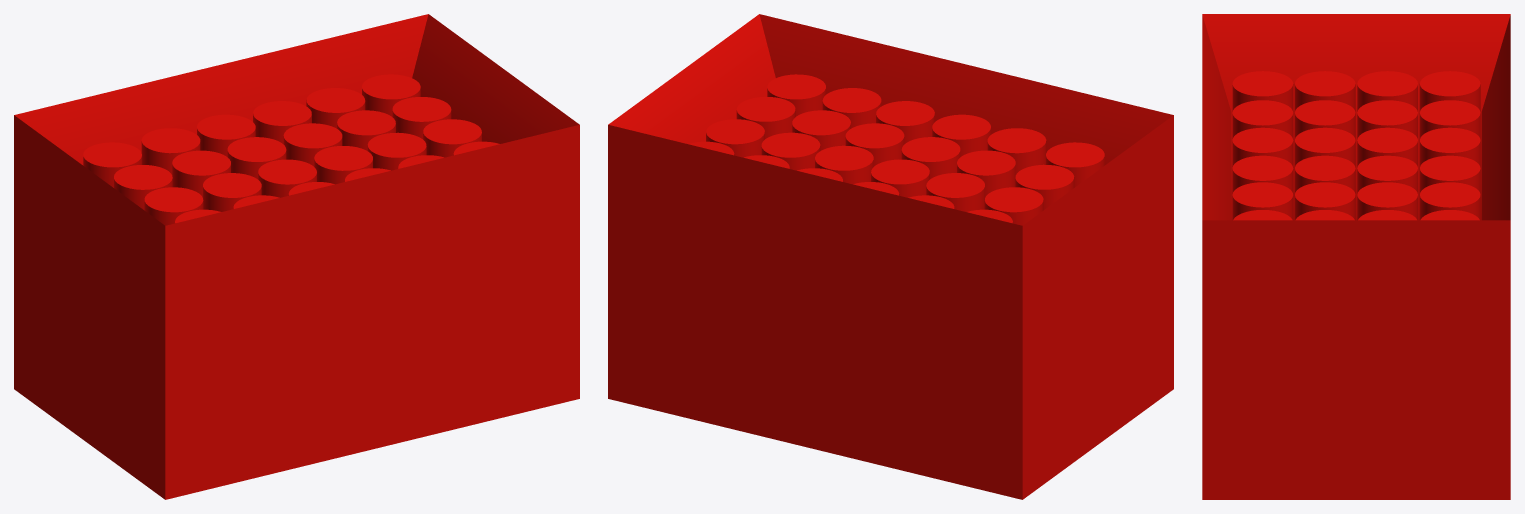
Rendered from FireworksBoxLucas.fbx.
3 renders of one model, left to right at view 1: azimuth 30°, elevation 25°; view 2: azimuth 150°, elevation 25°; view 3: azimuth 270°, elevation 25°, orthographic. The views are drawn at different scales.
Parts seen in each view (by area): view 1: RedBox; view 2: RedBox; view 3: RedBox.
Boxes of the visible parts, x1,y1,x2,y2 form: RedBox: [14, 14, 579, 499]; RedBox: [608, 14, 1173, 499]; RedBox: [1202, 14, 1510, 499].
Size of the model in its own units: 1.18 by 0.7449 by 0.7449.
